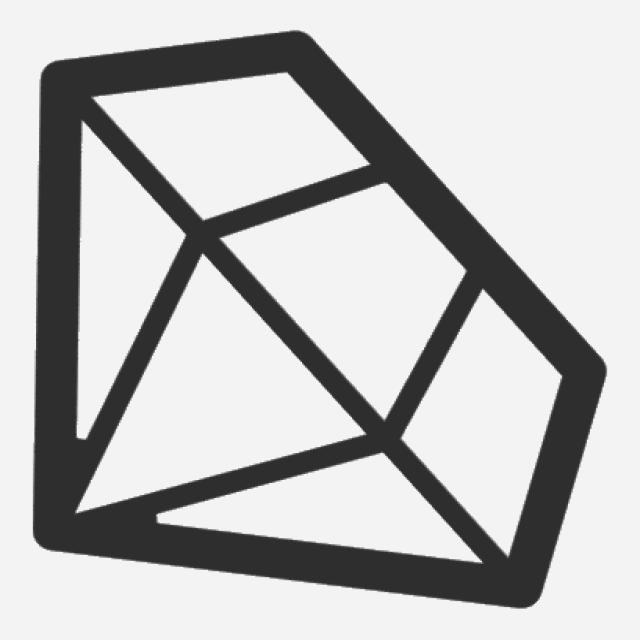diamond: (25, 15, 621, 616)
